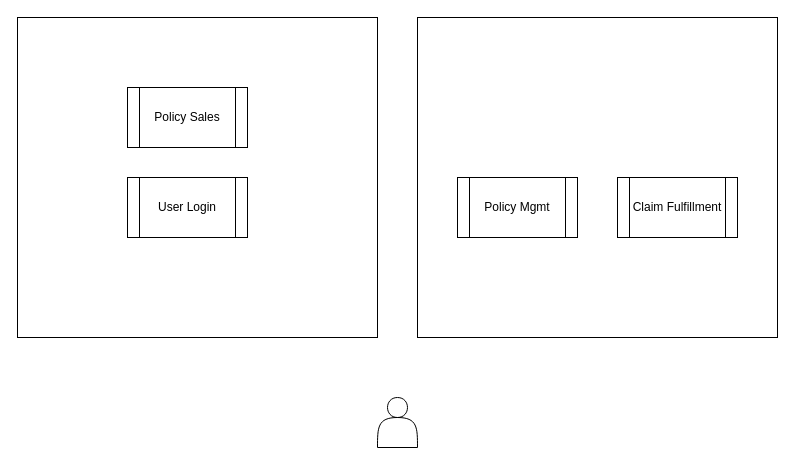
This 795x465 diagram has some shape labels left out. The box of each missing label's shape, as (x1, y1, x2, y2) in pixels:
AWS Cloud: (16, 16, 378, 338)
On-Prem: (416, 16, 778, 338)
